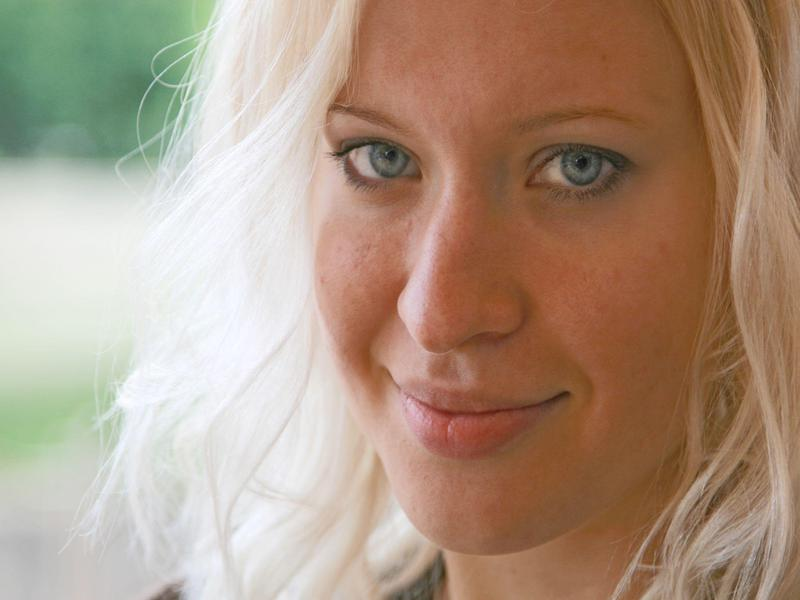person: (152, 1, 800, 600)
